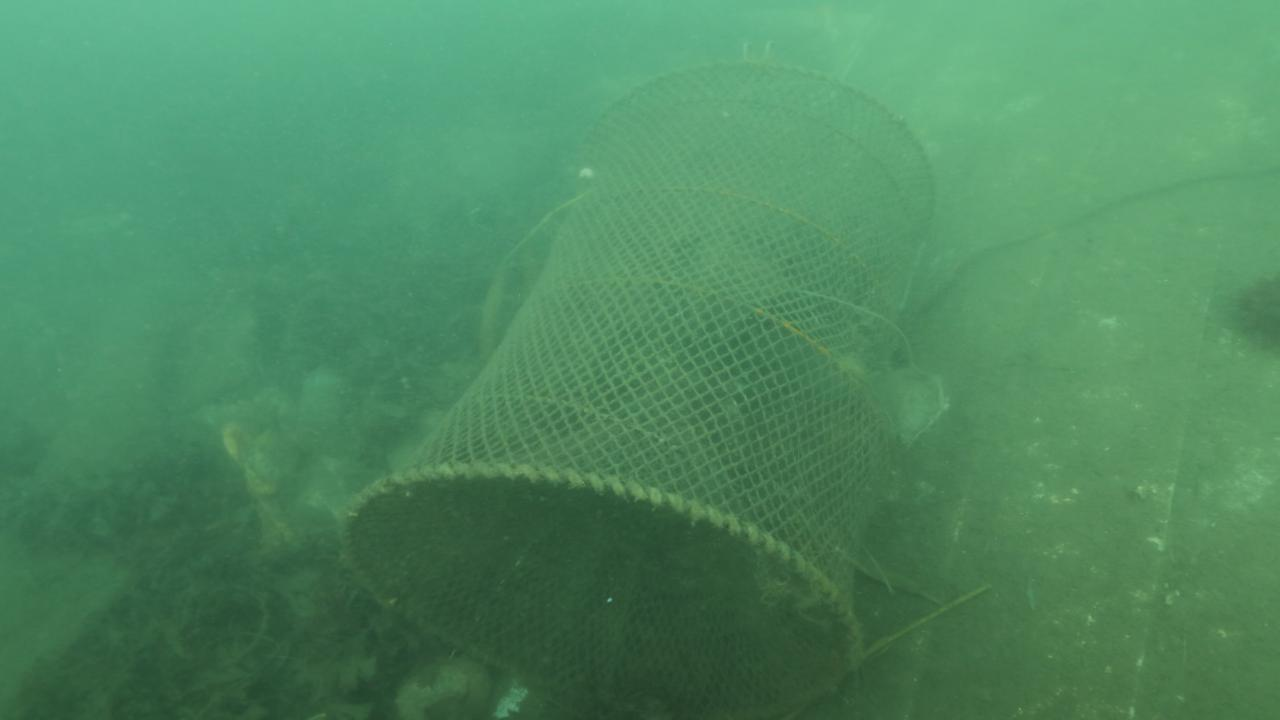spring fish trap: (339, 62, 939, 720)
